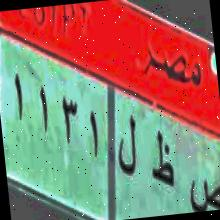1: (8, 60, 32, 128), (83, 106, 109, 167), (33, 82, 57, 141)
3: (59, 92, 84, 155)
Thaa: (142, 129, 182, 201)
laam: (115, 111, 144, 188)
saad: (184, 158, 220, 212)
